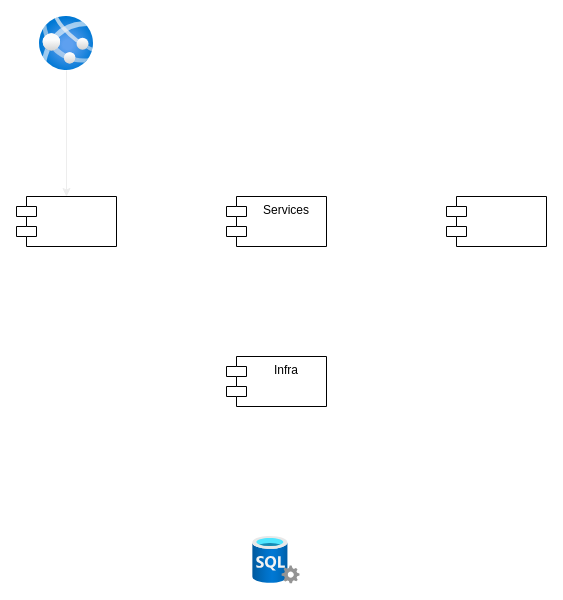
This 563x600 diagram has some shape labels left out. The shapes that lost their labels are listed below. From the top down, each one's box as (x1, y1, x2, y2) in pixels, then its label:
(16, 196, 116, 246): API
(446, 196, 546, 246): Domain
